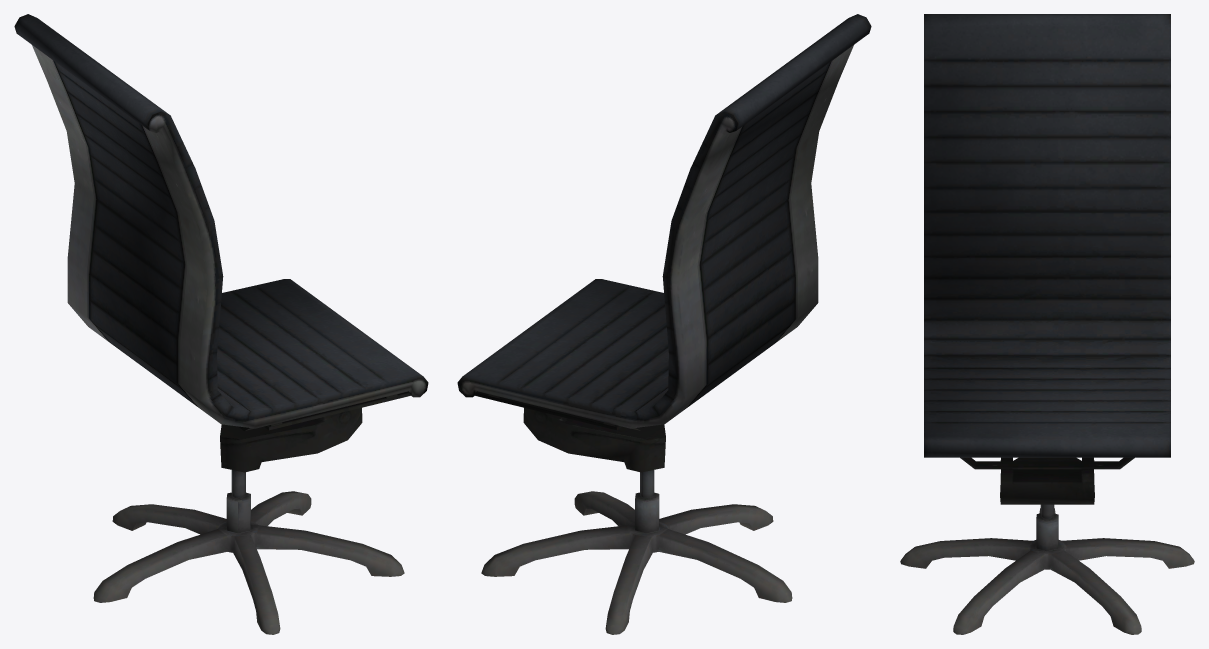
Rendered from ChairOffice02.FBX.
3 renders of one model, left to right at view 1: azimuth 30°, elevation 25°; view 2: azimuth 150°, elevation 25°; view 3: azimuth 270°, elevation 25°, orthographic. The views are drawn at different scales.
Parts seen in each view (by area): view 1: ChairOffice02; view 2: ChairOffice02; view 3: ChairOffice02.
Boxes of the visible parts, x1=… form: ChairOffice02: x1=14, y1=14, x2=428, y2=634; ChairOffice02: x1=457, y1=14, x2=871, y2=634; ChairOffice02: x1=900, y1=14, x2=1194, y2=634.
Size of the model in its own units: 0.6249 by 1.14 by 0.6115.
